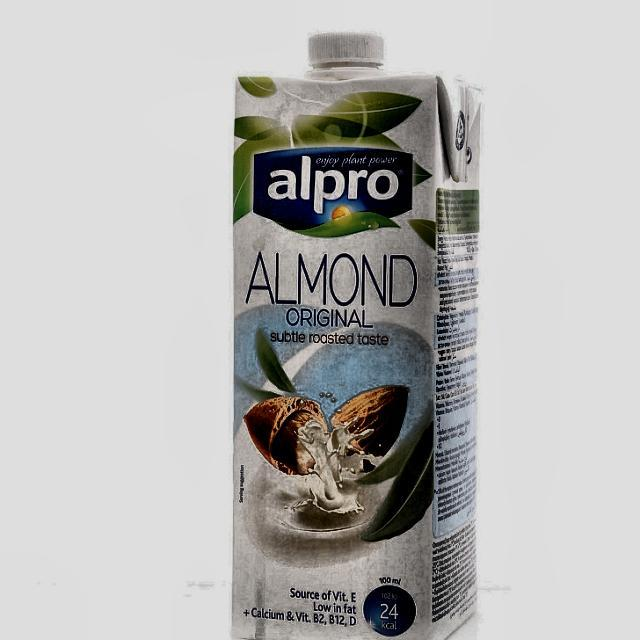cardboard: (230, 37, 480, 640)
